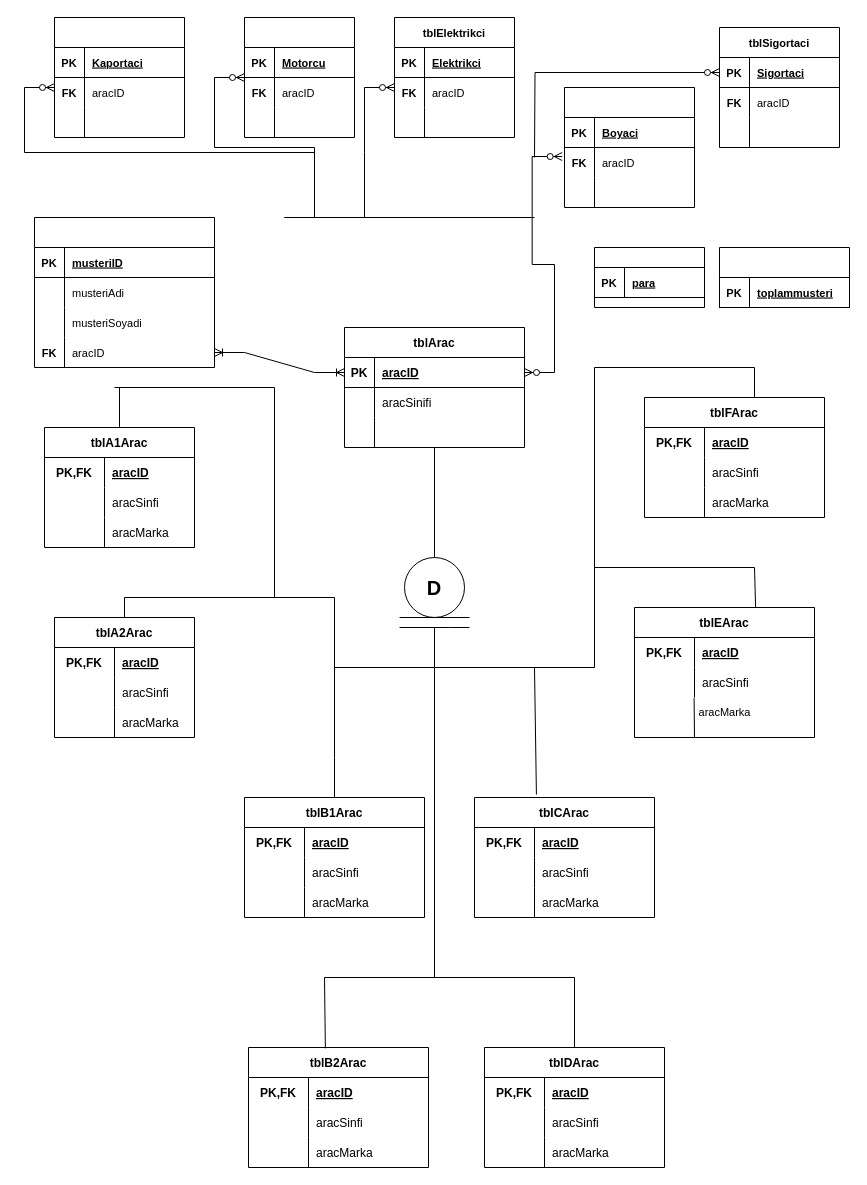
This 867x1185 diagram has some shape labels left out. The box of each missing label's shape, as (x1, y1, x2, y2) in pixels:
tblBoyaci: (564, 86, 694, 208)
tblKaportaci: (54, 16, 184, 138)
tblkasa: (594, 246, 704, 308)
tblMotorcu: (244, 16, 354, 138)
tblMusteri: (34, 216, 214, 368)
tbltoplammusteri: (718, 246, 850, 308)
